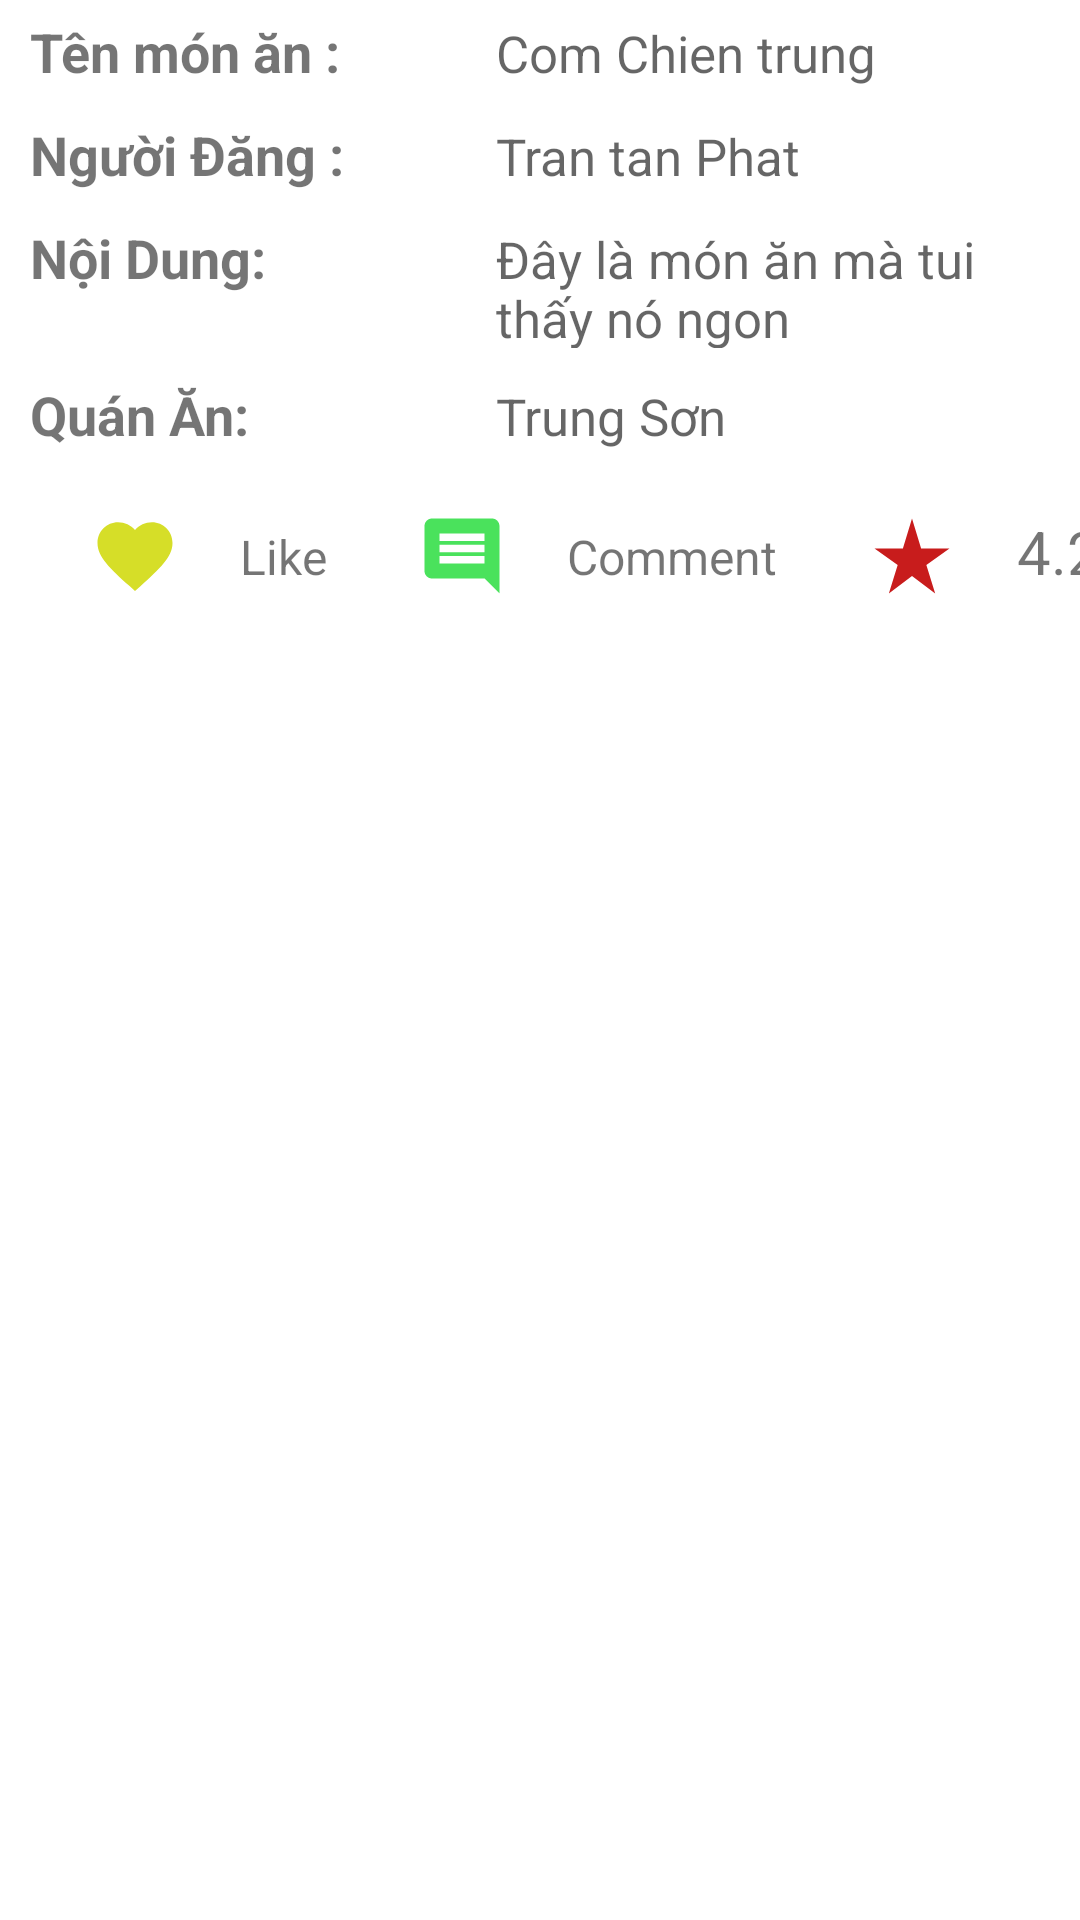

Named icons in this screenshot (1080 x 1920) and their centers, [x,y]:
favorite: [135,556]
star rate: [912,556]
